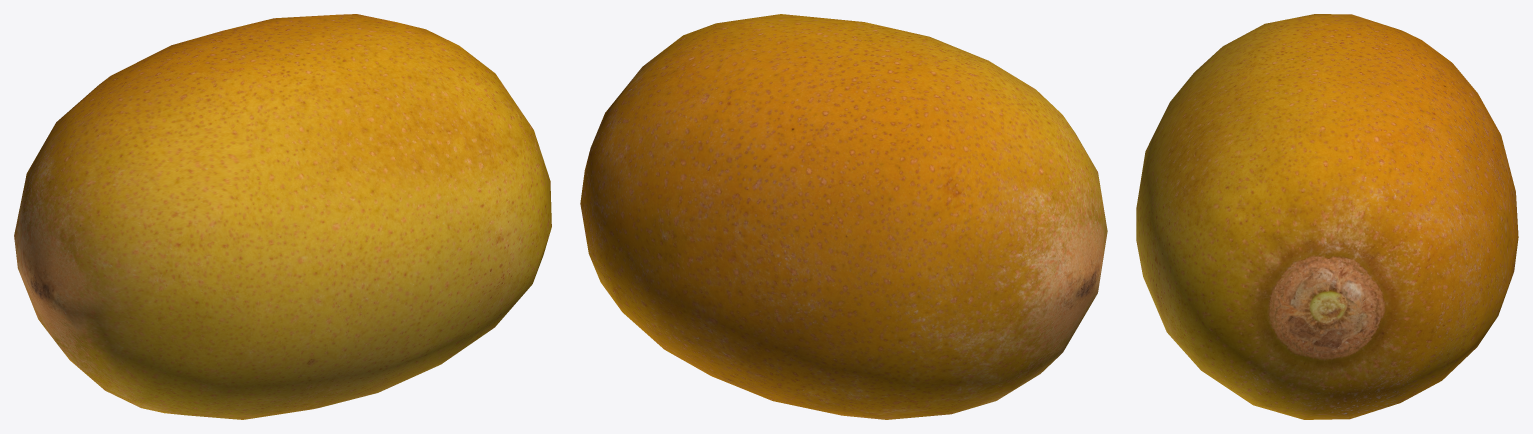
File: 3DKiwi001_LQ-2K-JPG.obj
The picture shows the model from 3 angles, left to right: view 1: azimuth 30°, elevation 25°; view 2: azimuth 150°, elevation 25°; view 3: azimuth 270°, elevation 25°; orthographic projection. The views are drawn at different scales.
Visible parts, largest first — view 1: 3DKiwi001_LQ-2K-JPG; view 2: 3DKiwi001_LQ-2K-JPG; view 3: 3DKiwi001_LQ-2K-JPG.
Part boxes in pixels (x1,y1,x2,y2): 3DKiwi001_LQ-2K-JPG: (14,14,551,419); 3DKiwi001_LQ-2K-JPG: (580,14,1107,419); 3DKiwi001_LQ-2K-JPG: (1136,14,1518,419).
Bounding box in the file's own units: 0.0671 × 0.0468 × 0.0502.
Materials: 1 (1 with a texture image).
